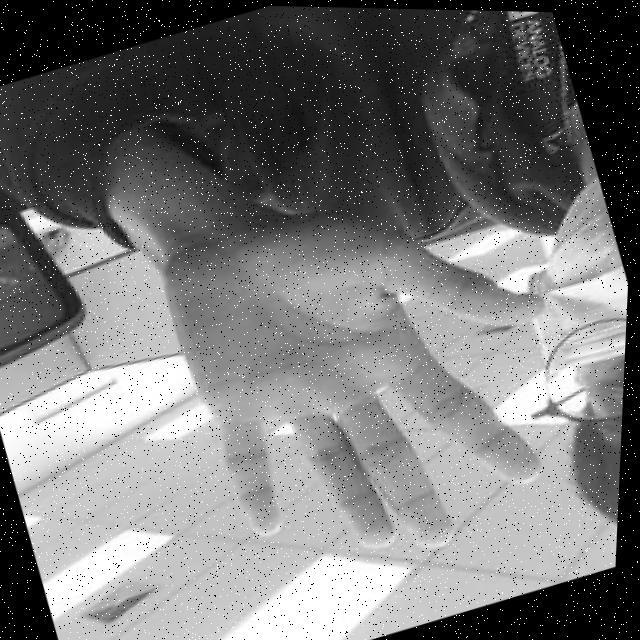no-gloves: (142, 140, 616, 610)
